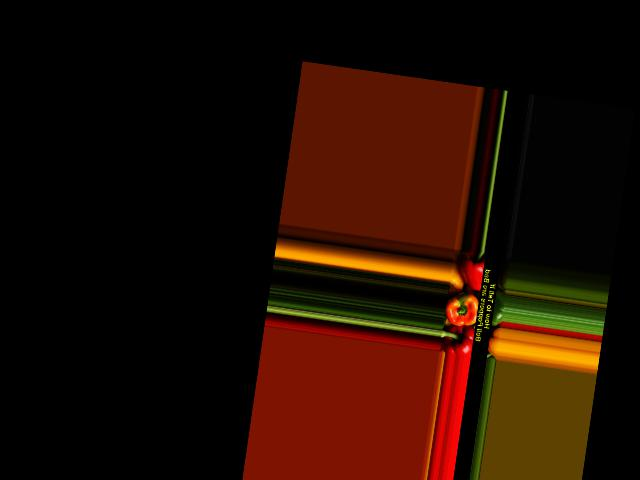bell_pepper: (439, 320, 477, 355)
